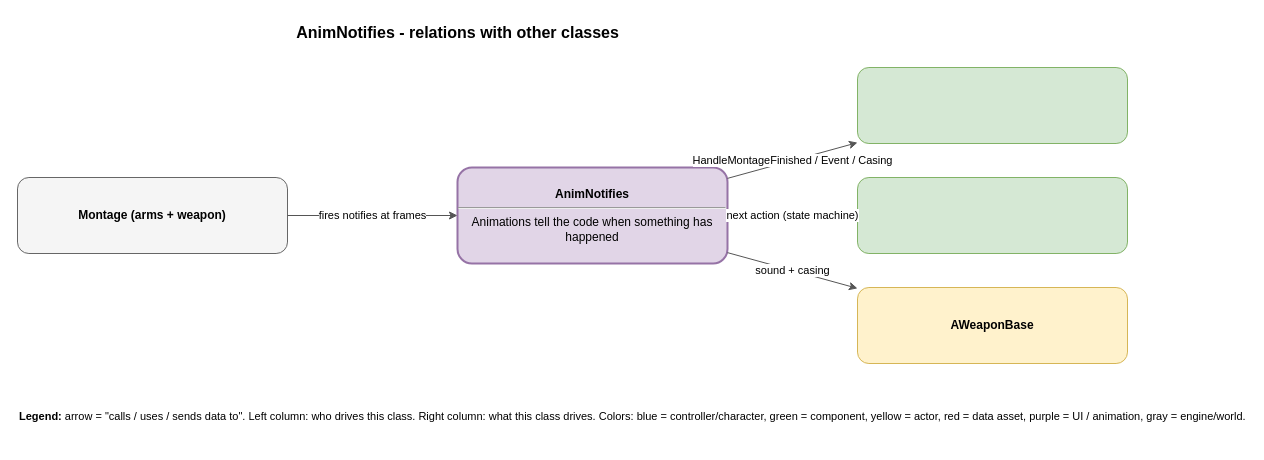
Some shapes in this 1264 by 460 pixel diagram are drawn without their labels. The shapes that lost their labels are listed below. From the top down, each one's centre as x and y in pixels, then its label:
At pixel 992 105: "UViewModelComponent".
At pixel 992 215: "UWeaponManager".
